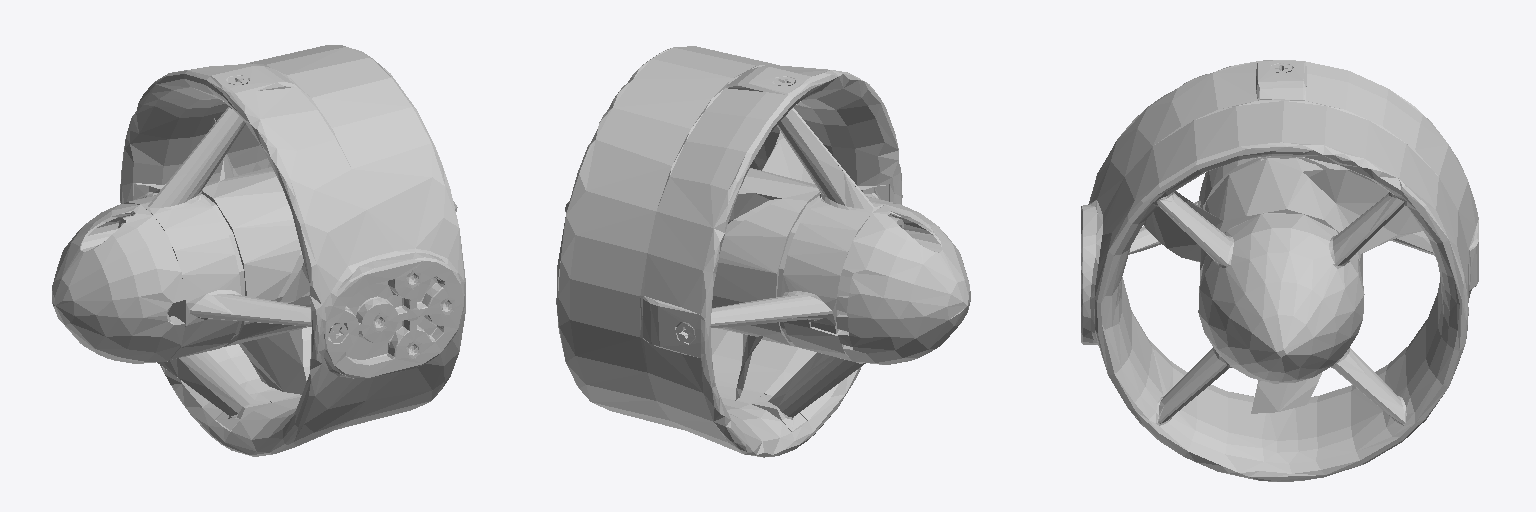
The model's file is thruster_brt.obj.
3 renders of one model, left to right at view 1: azimuth 30°, elevation 25°; view 2: azimuth 150°, elevation 25°; view 3: azimuth 270°, elevation 25°, orthographic.
Bounding box in the file's own units: 0.1127 × 0.0966 × 0.0973.